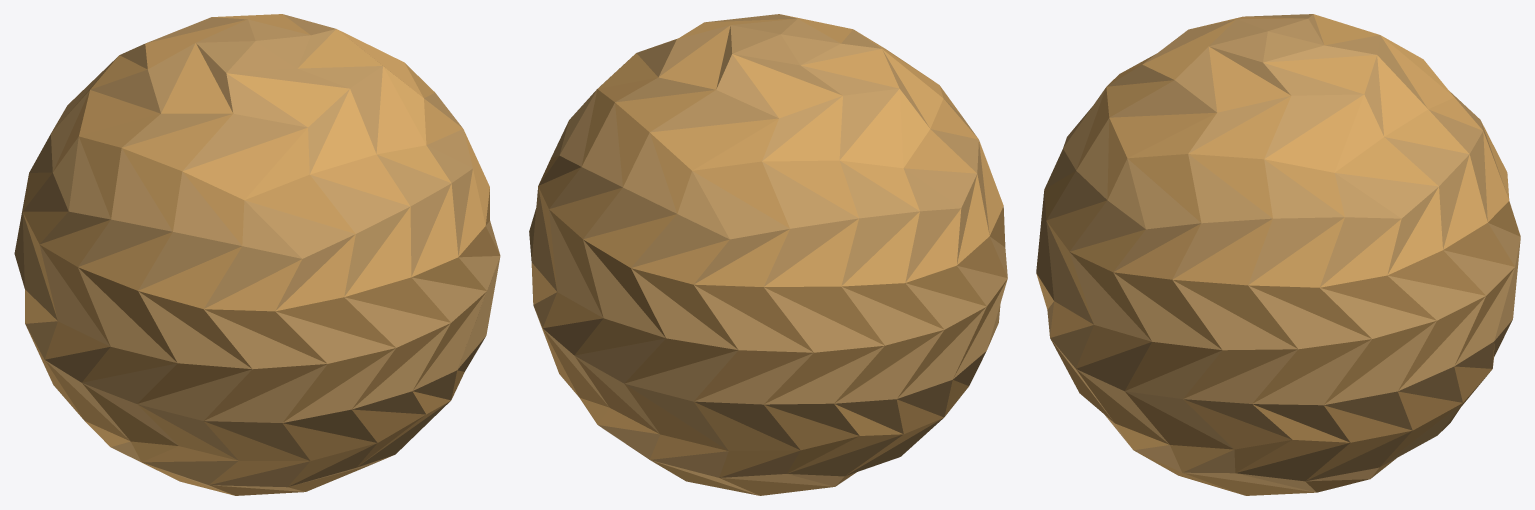
File: saturn.glb
3 views of the same model, side by side, from view 1: azimuth 30°, elevation 25°; view 2: azimuth 150°, elevation 25°; view 3: azimuth 270°, elevation 25° (orthographic).
Parts seen in each view (by area): view 1: Saturn_Icosphere.007; view 2: Saturn_Icosphere.007; view 3: Saturn_Icosphere.007.
Part boxes in pixels (bbox=[...]): Saturn_Icosphere.007: bbox=[14, 14, 500, 495]; Saturn_Icosphere.007: bbox=[529, 14, 1007, 495]; Saturn_Icosphere.007: bbox=[1036, 14, 1520, 495].
Size of the model in its own units: 2.89 by 2.89 by 2.89.
